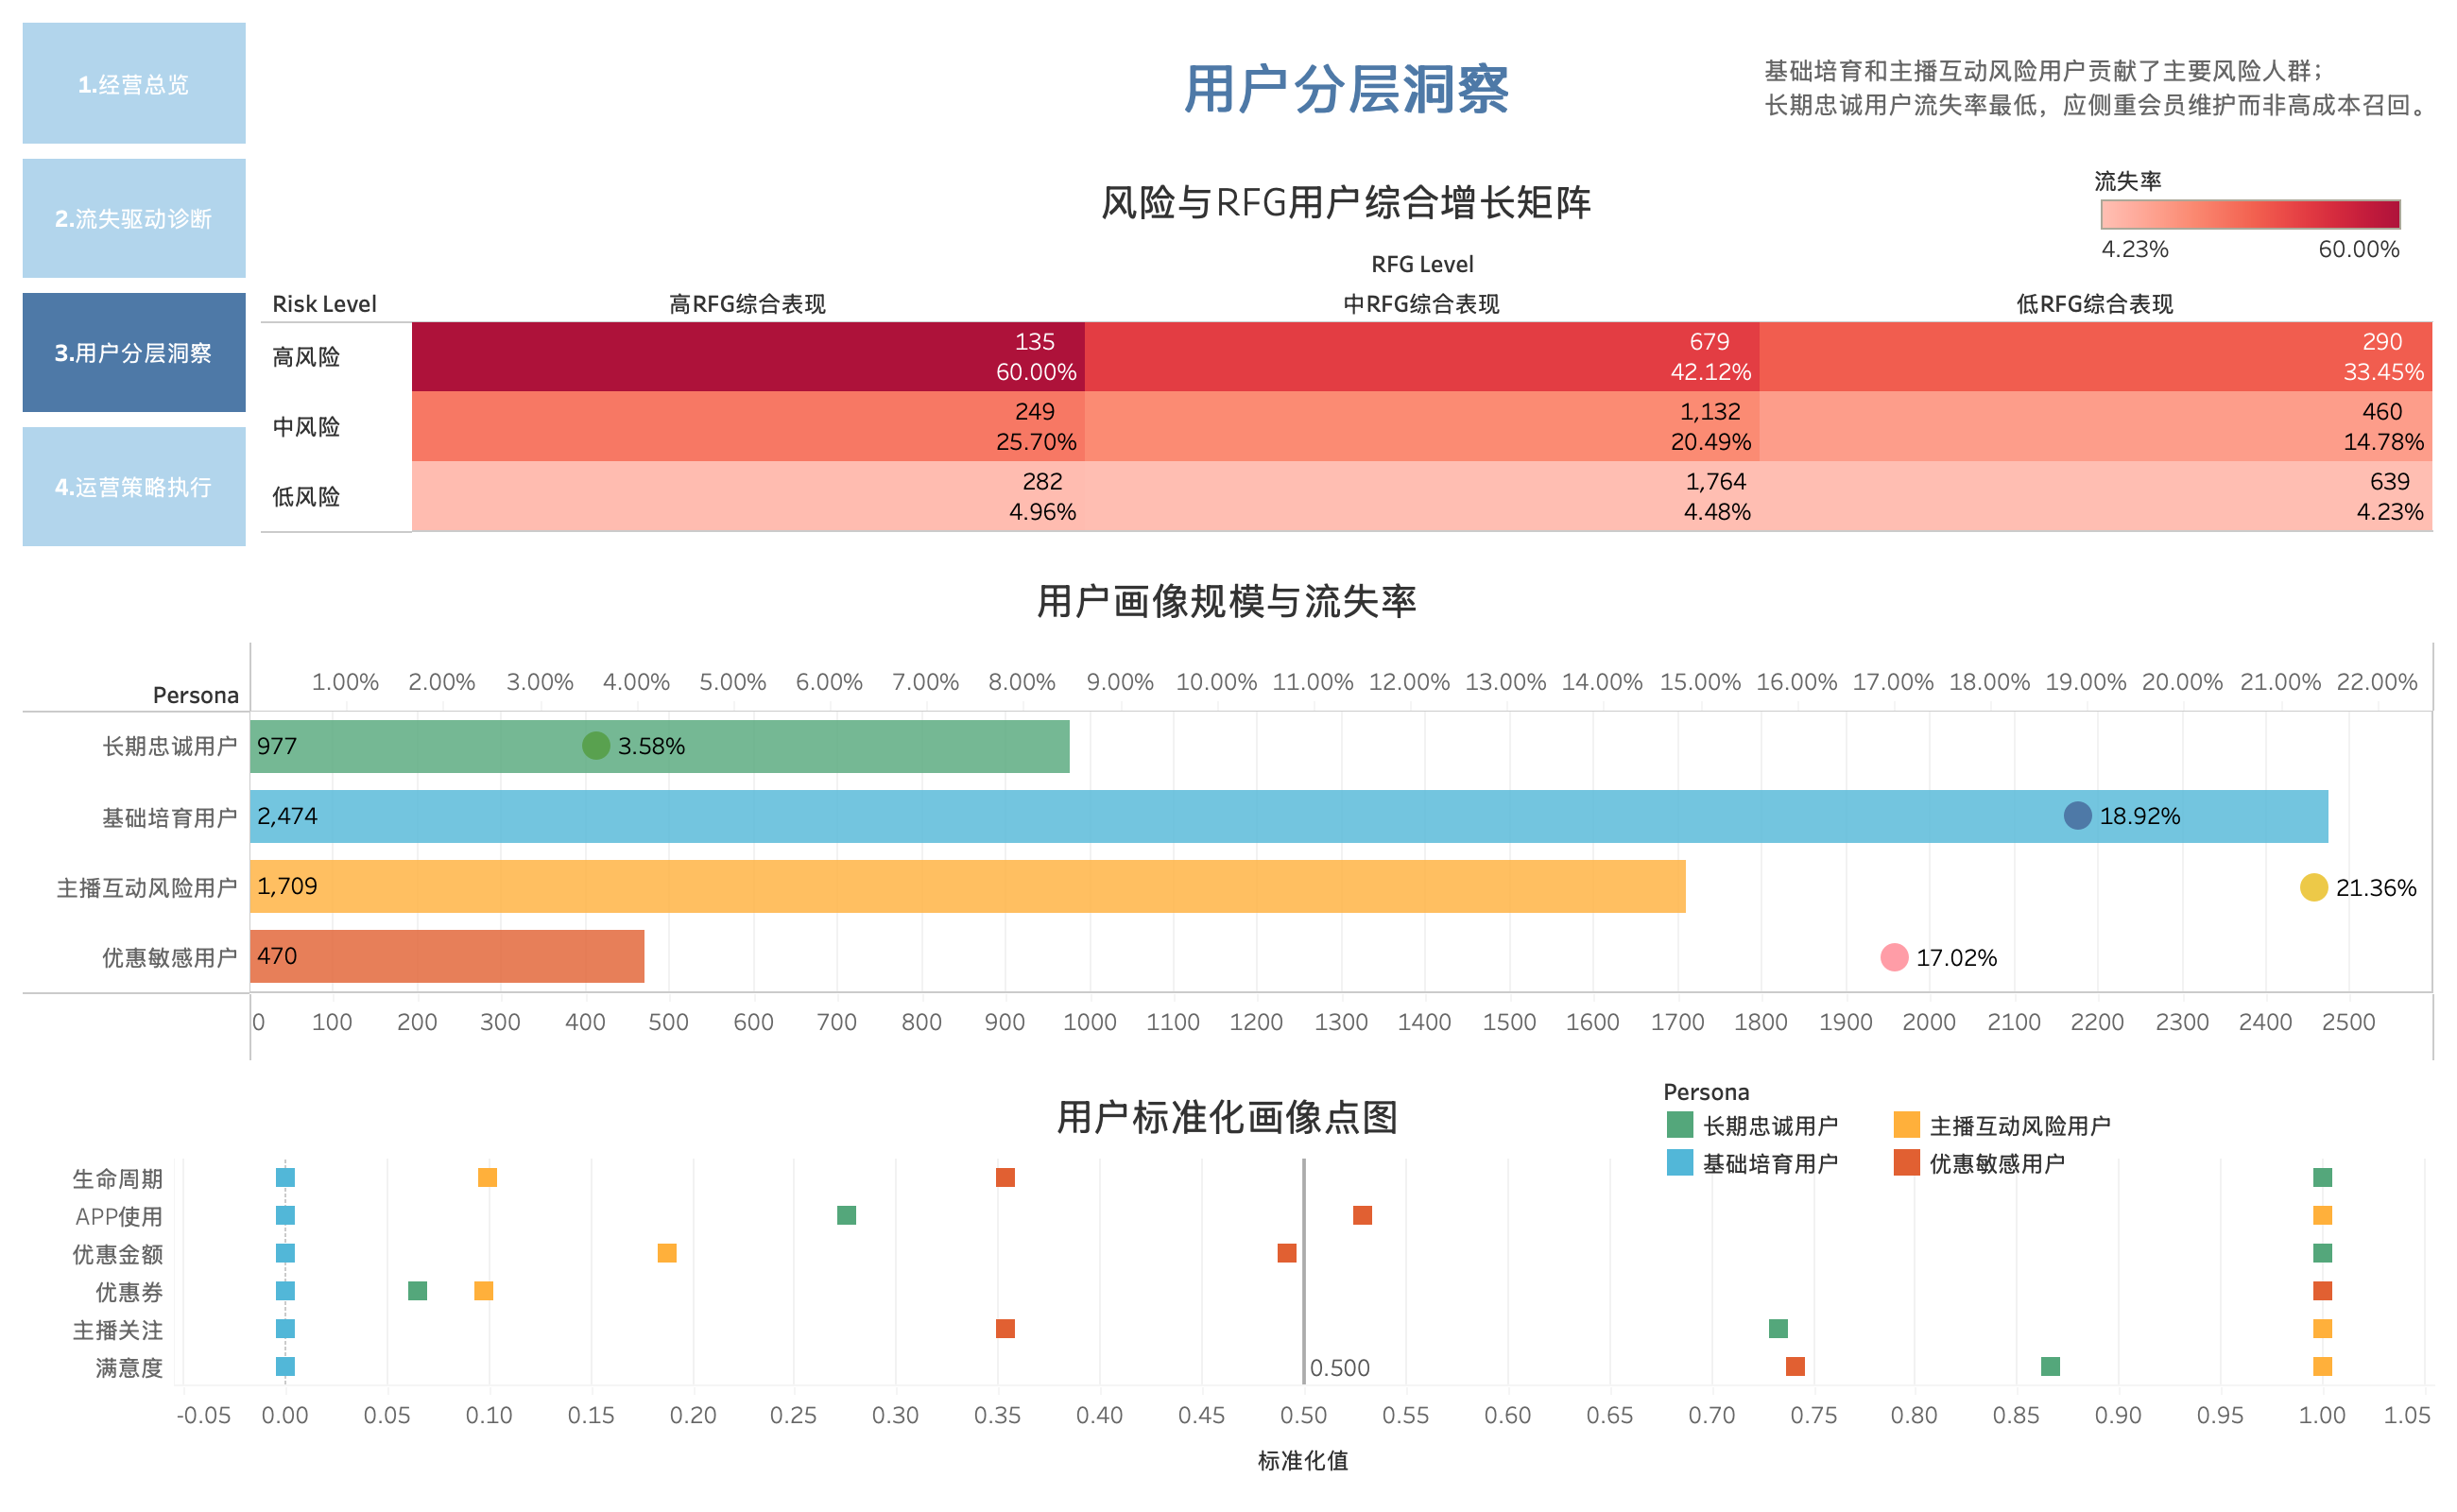

Layout of this report page (visuals, bound fields, positions):
{"tool":"tableau","page":{"name":"DB3 用户分层洞察","canvas":[1300,800],"ordinal":2},"visuals":[{"type":"dashboard-object","box":[8,8,126,72]},{"type":"title","box":[134,8,1158,74]},{"type":"text","box":[931,15,369,62]},{"type":"dashboard-object","box":[8,80,126,71]},{"type":"worksheet","title":"3.1风险与RFG矩阵","mark":"Square","rows":["RiskLevel"],"cols":["RFG_Level"],"box":[134,82,1158,211]},{"type":"legend","title":"3.1风险与RFG矩阵","param":"[federated.03efwru1xseoi915distb0ypb5b5].[usr:Calculation_0426848959488003:qk]","box":[1108,83,167,58]},{"type":"dashboard-object","box":[8,151,126,71]},{"type":"dashboard-object","box":[8,222,126,71]},{"type":"worksheet","title":"3.2persona规模与流失率","mark":"Bar","rows":["Persona"],"cols":["Calculation_0426848958726145","Calculation_0426848959488003"],"box":[8,293,1284,273]},{"type":"worksheet","title":"3.3persona标准化画像点图","mark":"Square","box":[8,566,1284,226]},{"type":"legend","title":"3.3persona标准化画像点图","param":"[federated.03efwru1xseoi915distb0ypb5b5].[none:Persona:nk]","box":[879,567,262,65]}]}

Visuals, with their boxes in screenshot pixels (x1, y1, x2, y2), scaled from the page's 1300x800 canvas onto the 2457x1512 screenshot:
dashboard-object: <box>15,15,253,151</box>
title: <box>253,15,2442,155</box>
text: <box>1760,28,2456,146</box>
dashboard-object: <box>15,151,253,285</box>
"3.1风险与RFG矩阵" worksheet (Square marks): <box>253,155,2442,554</box>
"3.1风险与RFG矩阵" legend: <box>2094,157,2410,266</box>
dashboard-object: <box>15,285,253,420</box>
dashboard-object: <box>15,420,253,554</box>
"3.2persona规模与流失率" worksheet (Bar marks): <box>15,554,2442,1070</box>
"3.3persona标准化画像点图" worksheet (Square marks): <box>15,1070,2442,1497</box>
"3.3persona标准化画像点图" legend: <box>1661,1072,2156,1194</box>
